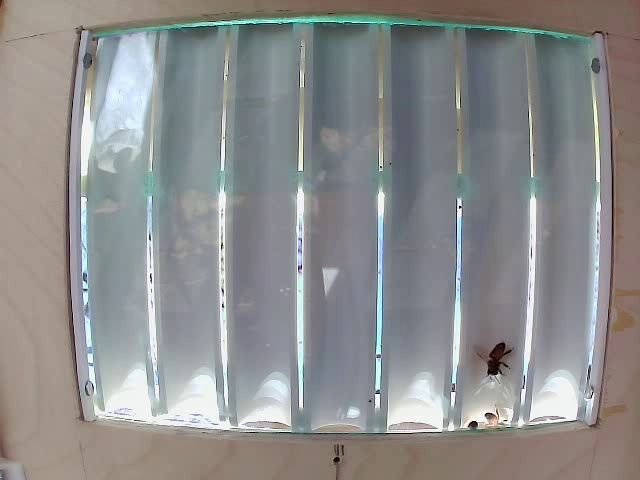bee: (478, 339, 513, 381)
